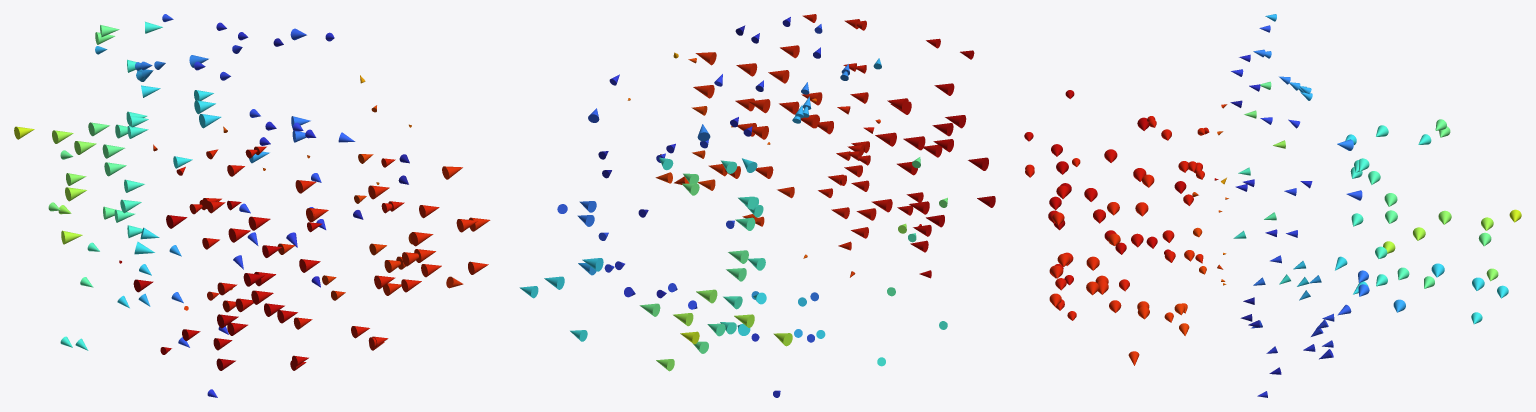
File: LineasCorrienteH2-O2_mh2-6.88_V-0.8.glb
The picture shows the model from 3 angles, left to right: view 1: azimuth 30°, elevation 25°; view 2: azimuth 150°, elevation 25°; view 3: azimuth 270°, elevation 25°; orthographic projection. The views are drawn at different scales.
Bounding box in the file's own units: 0.000921 × 0.000962 × 0.00123.
2 materials, 2 textured.
